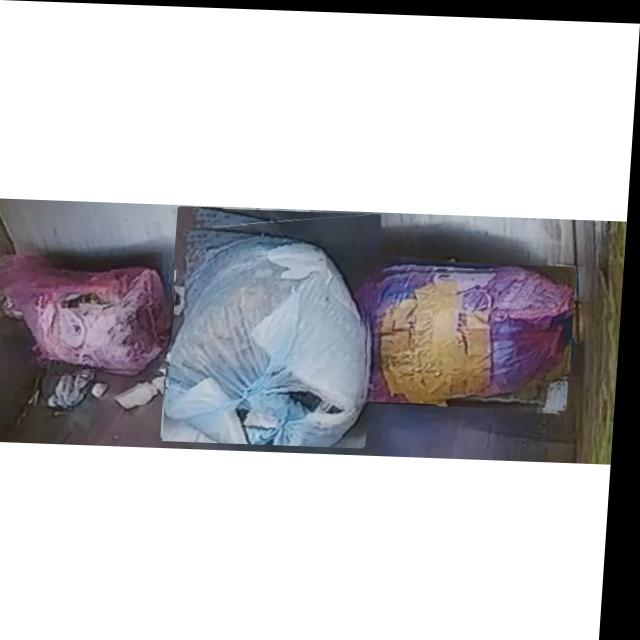other_trashbag: (170, 221, 371, 443), (372, 264, 578, 400), (0, 265, 177, 369)
